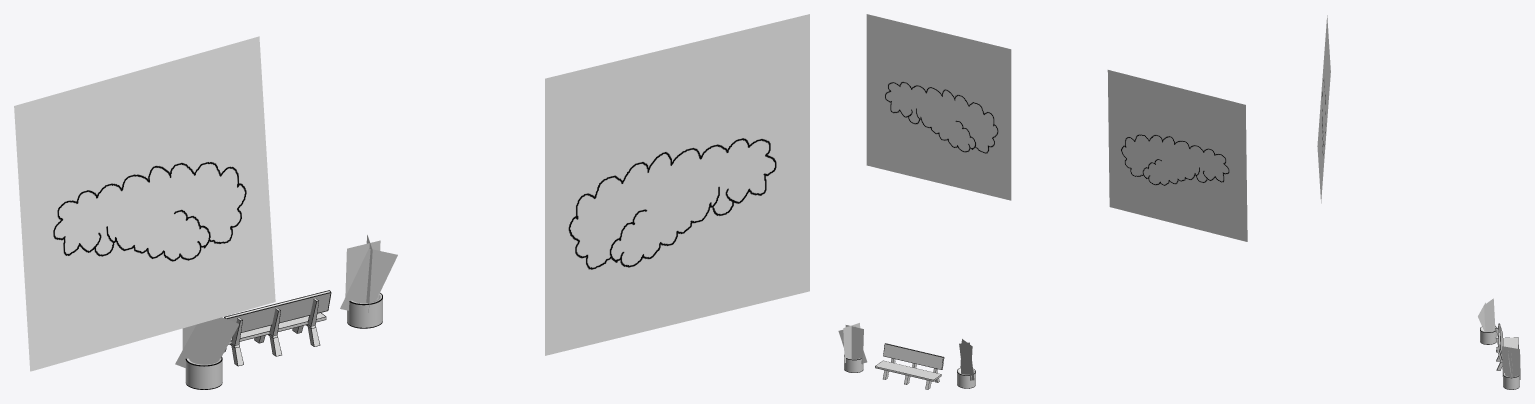
Rendered from scene1_static_park.fbx.
3 views of the same model, side by side, from view 1: azimuth 30°, elevation 25°; view 2: azimuth 150°, elevation 25°; view 3: azimuth 270°, elevation 25° (orthographic). The views are drawn at different scales.
Parts seen in each view (by area): view 1: Plane.007, Plane.006, Cube.011, Plane.003, Plane.001, Cylinder.001, Cylinder, Plane; view 2: Plane.007, Plane.006, Cube.011, Plane, Plane.002; view 3: Plane.006, Plane.010, Cube.011, Plane.002, Cylinder.001, Cylinder.
Part boxes in pixels (bbox=[...]): Plane.007: bbox=[545, 14, 809, 355]; Plane.006: bbox=[14, 36, 275, 371]; Cube.011: bbox=[224, 290, 331, 366]; Plane.003: bbox=[175, 317, 239, 367]; Plane.001: bbox=[340, 248, 397, 310]; Cylinder.001: bbox=[185, 357, 222, 389]; Cylinder: bbox=[347, 293, 382, 328]; Plane: bbox=[345, 240, 380, 296]; Plane.007: bbox=[866, 14, 1011, 200]; Plane.006: bbox=[1107, 70, 1247, 241]; Cube.011: bbox=[875, 343, 944, 389]; Plane: bbox=[845, 325, 863, 364]; Plane.002: bbox=[960, 339, 972, 380]; Plane.006: bbox=[1317, 15, 1330, 203]; Plane.010: bbox=[1502, 346, 1520, 379]; Cube.011: bbox=[1495, 323, 1518, 370]; Plane.002: bbox=[1484, 298, 1495, 331]; Cylinder.001: bbox=[1480, 326, 1497, 344]; Cylinder: bbox=[1503, 373, 1519, 389].
Size of what is drawn, in the model's own units: 3351 by 2090 by 1896.
6 materials, 1 textured.
